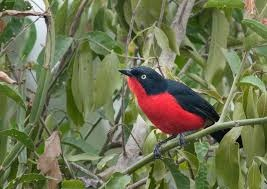bird: (115, 66, 246, 160)
